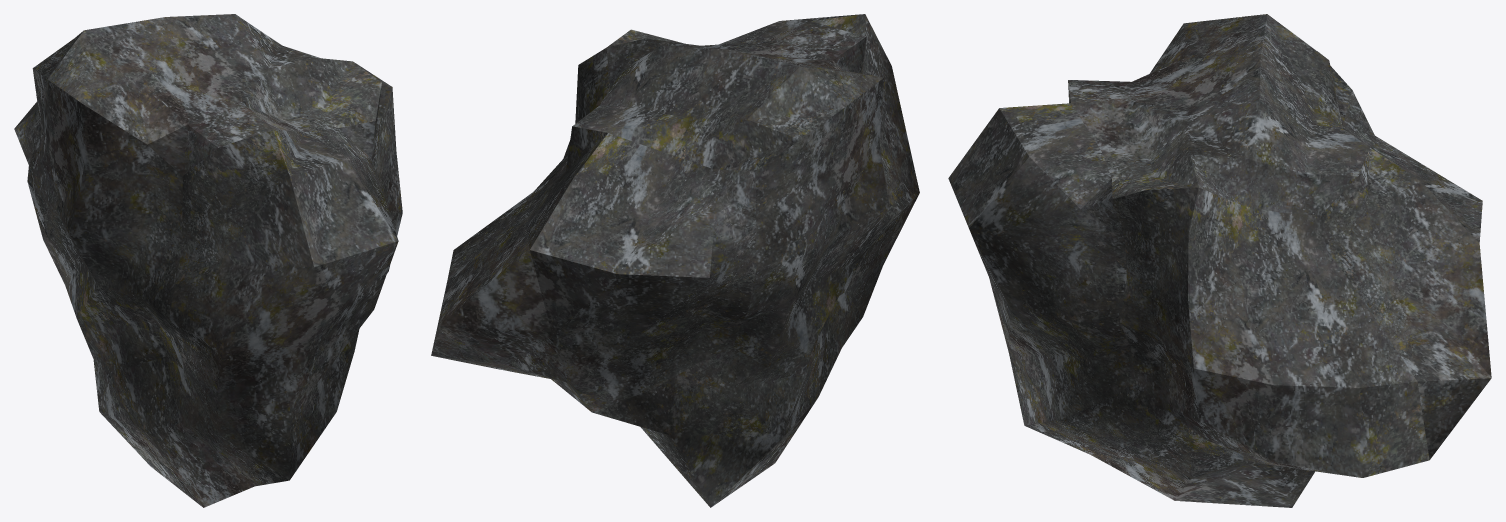
The model's file is Asteroid04.FBX.
The picture shows the model from 3 angles, left to right: view 1: azimuth 30°, elevation 25°; view 2: azimuth 150°, elevation 25°; view 3: azimuth 270°, elevation 25°; orthographic projection. The views are drawn at different scales.
Parts seen in each view (by area): view 1: Asteroid04; view 2: Asteroid04; view 3: Asteroid04.
Part boxes in pixels (bbox=[...]): Asteroid04: bbox=[14, 14, 402, 507]; Asteroid04: bbox=[431, 14, 919, 507]; Asteroid04: bbox=[948, 14, 1491, 507].
Size of the model in its own units: 101 by 119 by 128.
